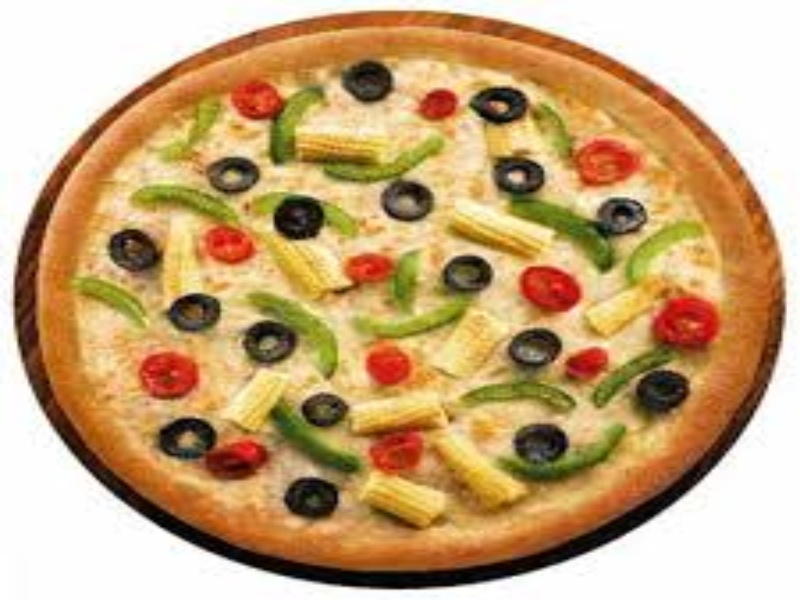olive noir: (279, 473, 340, 519), (339, 54, 396, 103), (381, 173, 437, 222), (631, 367, 690, 412), (155, 415, 216, 458), (240, 318, 297, 364), (512, 422, 569, 467), (271, 195, 328, 239), (107, 228, 159, 276), (487, 153, 546, 195), (199, 156, 262, 195), (469, 86, 532, 125), (504, 325, 561, 368), (595, 195, 650, 237), (168, 291, 224, 332), (442, 253, 498, 293), (299, 394, 350, 428)
